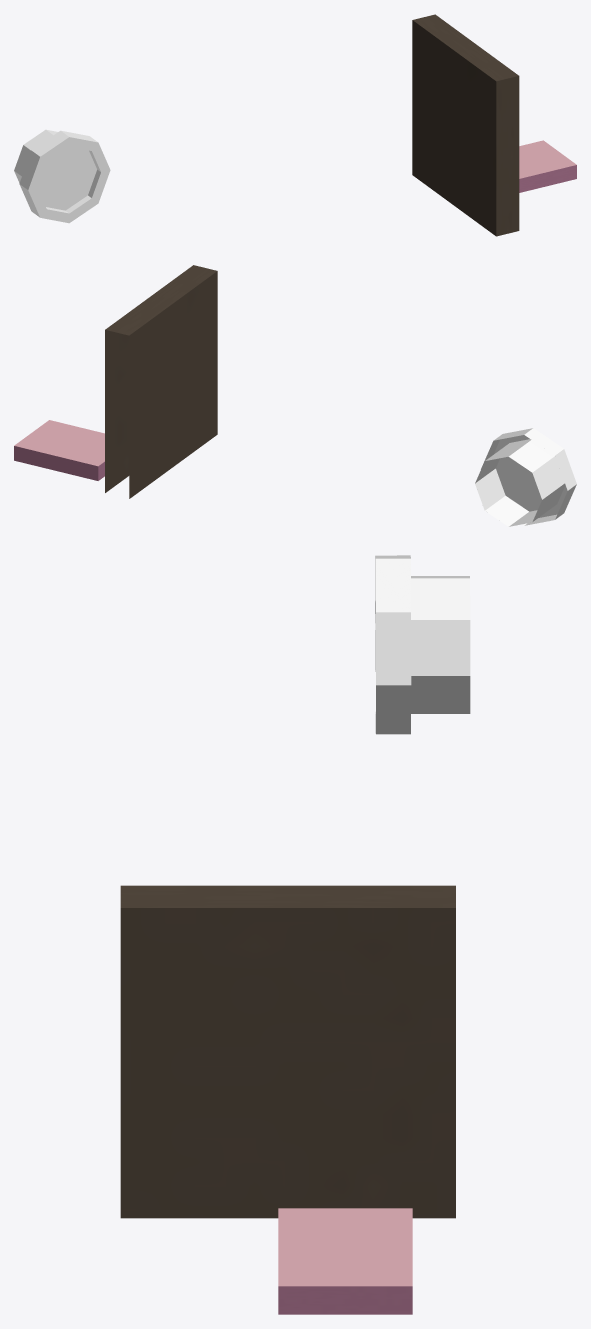
Rendered from parte1_robo.fbx.
3 renders of one model, top to bottom at view 1: azimuth 30°, elevation 25°; view 2: azimuth 150°, elevation 25°; view 3: azimuth 270°, elevation 25°, orthographic. The views are drawn at different scales.
Parts seen in each view (by area): view 1: parede.1parte, cano.1parte, botao1parte; view 2: parede.1parte, cano.1parte, botao1parte; view 3: parede.1parte, cano.1parte, botao1parte.
Part boxes in pixels (x1,y1,x2,y2): parede.1parte: (412, 14, 519, 236); cano.1parte: (14, 129, 110, 223); botao1parte: (519, 140, 576, 192); parede.1parte: (105, 265, 217, 498); cano.1parte: (475, 428, 576, 526); botao1parte: (14, 420, 104, 480); parede.1parte: (120, 885, 455, 1218); cano.1parte: (375, 555, 470, 734); botao1parte: (278, 1208, 412, 1314).
Bounding box in the file's own units: 544 × 154 × 157.
